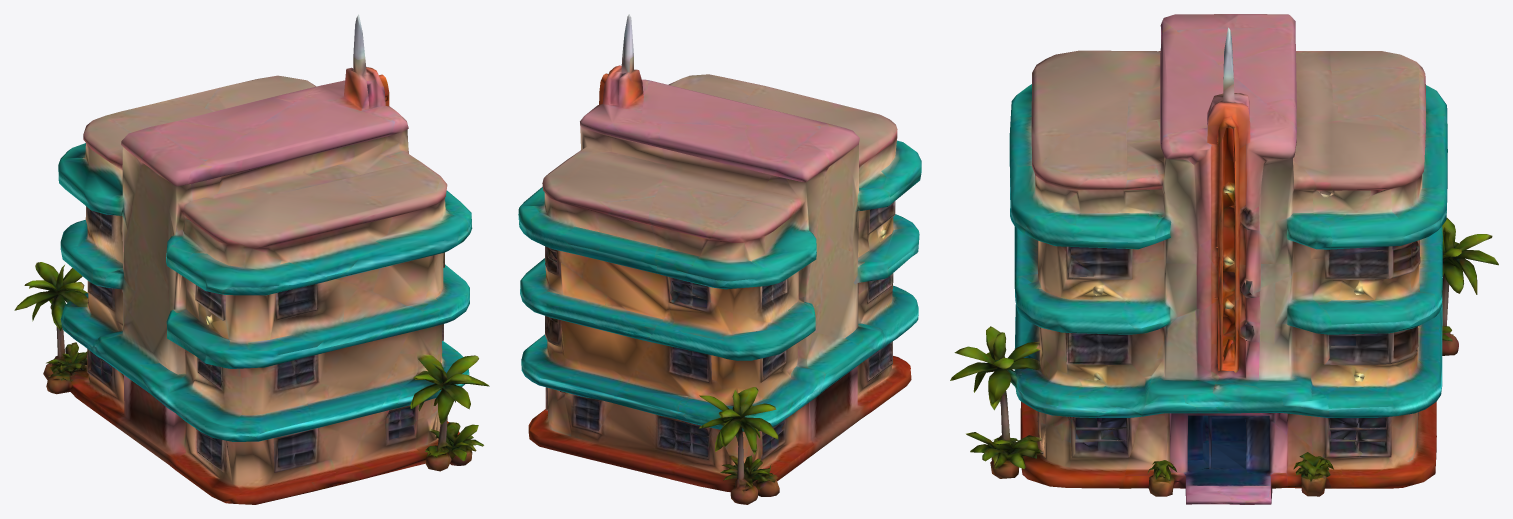
Rendered from deco-hotel.glb.
3 views of the same model, side by side, from view 1: azimuth 30°, elevation 25°; view 2: azimuth 150°, elevation 25°; view 3: azimuth 270°, elevation 25° (orthographic). The views are drawn at different scales.
Visible parts, largest first — view 1: tripo_node_d11b6937-6c52-440e-95f8-e58928d0e546; view 2: tripo_node_d11b6937-6c52-440e-95f8-e58928d0e546; view 3: tripo_node_d11b6937-6c52-440e-95f8-e58928d0e546.
Boxes of the visible parts, x1,y1,x2,y2 form: tripo_node_d11b6937-6c52-440e-95f8-e58928d0e546: (14,14,489,504); tripo_node_d11b6937-6c52-440e-95f8-e58928d0e546: (518,14,921,504); tripo_node_d11b6937-6c52-440e-95f8-e58928d0e546: (950,14,1498,504).
Bounding box in the file's own units: 0.7496 × 0.896 × 0.9985.
Materials: 1 (1 with a texture image).
